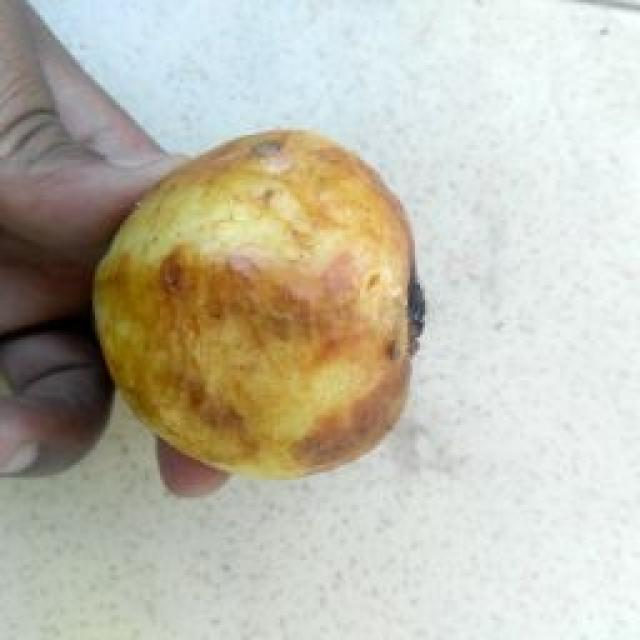Organik: (79, 118, 432, 480)
